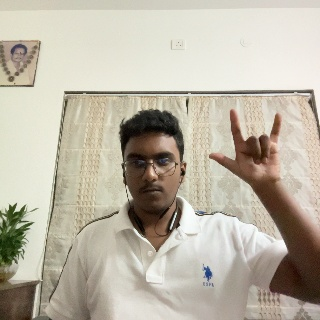Face: (122, 118, 185, 221)
I Love You: (209, 109, 288, 202)
